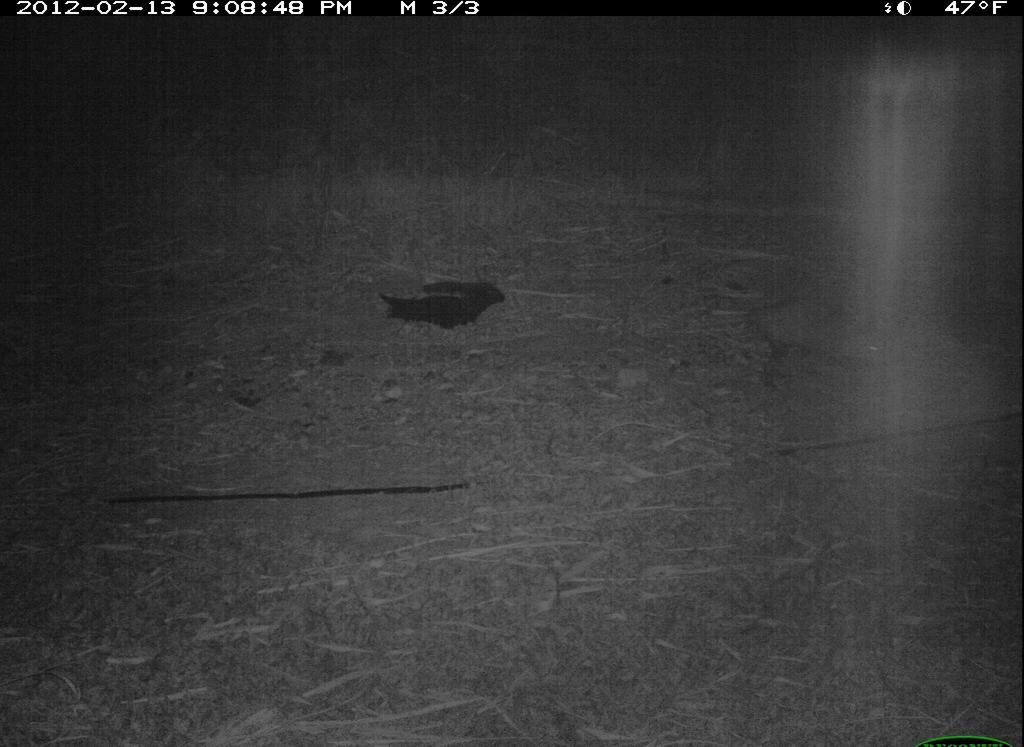opossum: (753, 290, 892, 372)
